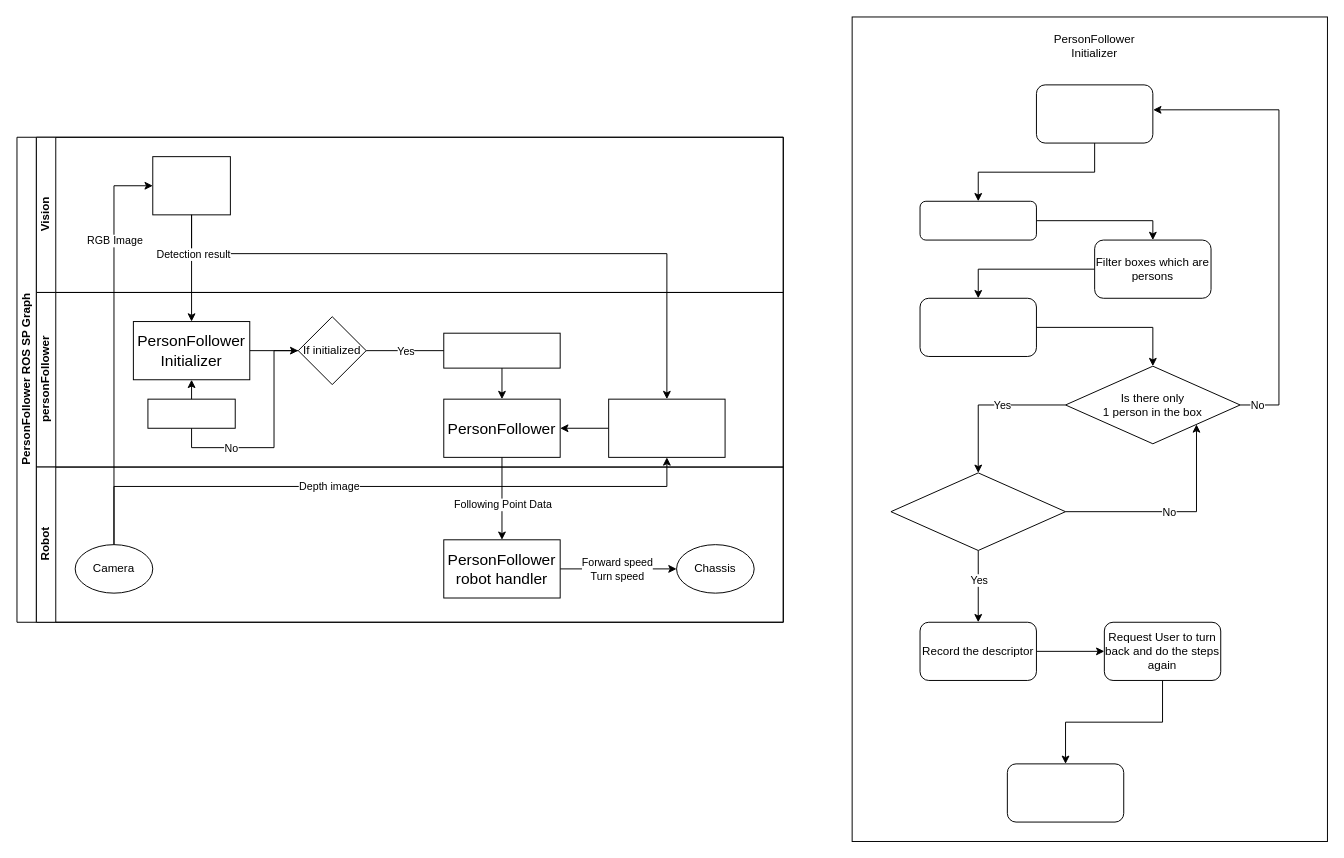
This 1344x858 diagram has some shape labels left out. The centre of each missing label's shape, as x and y in pixels:
"Continue find pereson" belongs at (x=191, y=413).
"Find boxes are in the initilize area" belongs at (x=977, y=326).
"Get Boxes from YOLO" belongs at (x=977, y=220).
"If 3 seconds later the person is still in the box" belongs at (x=978, y=511).
"Request user to stand in front of the robot" belongs at (x=1094, y=113).
"Send person description" belongs at (x=501, y=350).
"Send the two front and back descriptor to main program" belongs at (x=1065, y=792).
"Time Synchronizer" belongs at (x=666, y=427).
